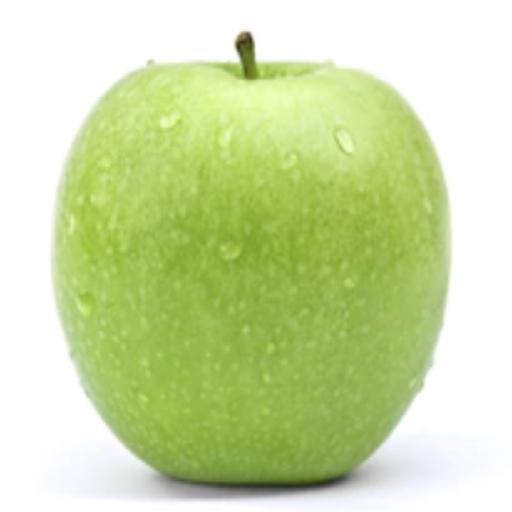apple: (53, 34, 449, 483)
